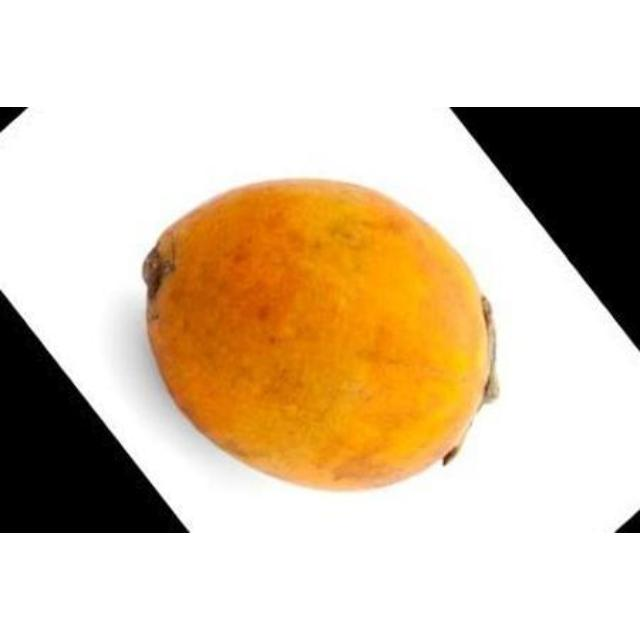good: (141, 178, 495, 495)
